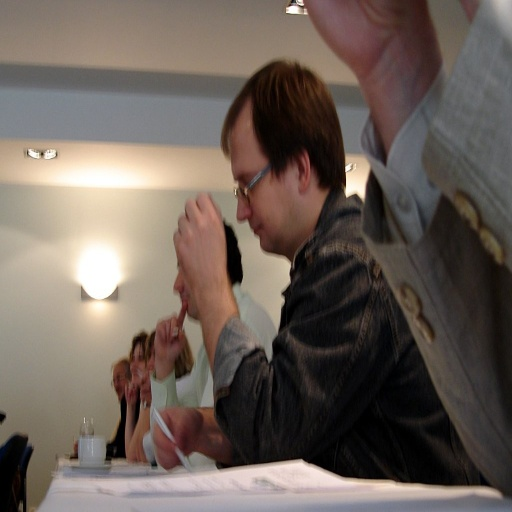hand: (303, 0, 427, 80), (172, 189, 226, 304), (152, 407, 202, 470), (154, 303, 185, 364), (141, 368, 151, 405), (124, 379, 137, 407), (72, 439, 79, 457)
